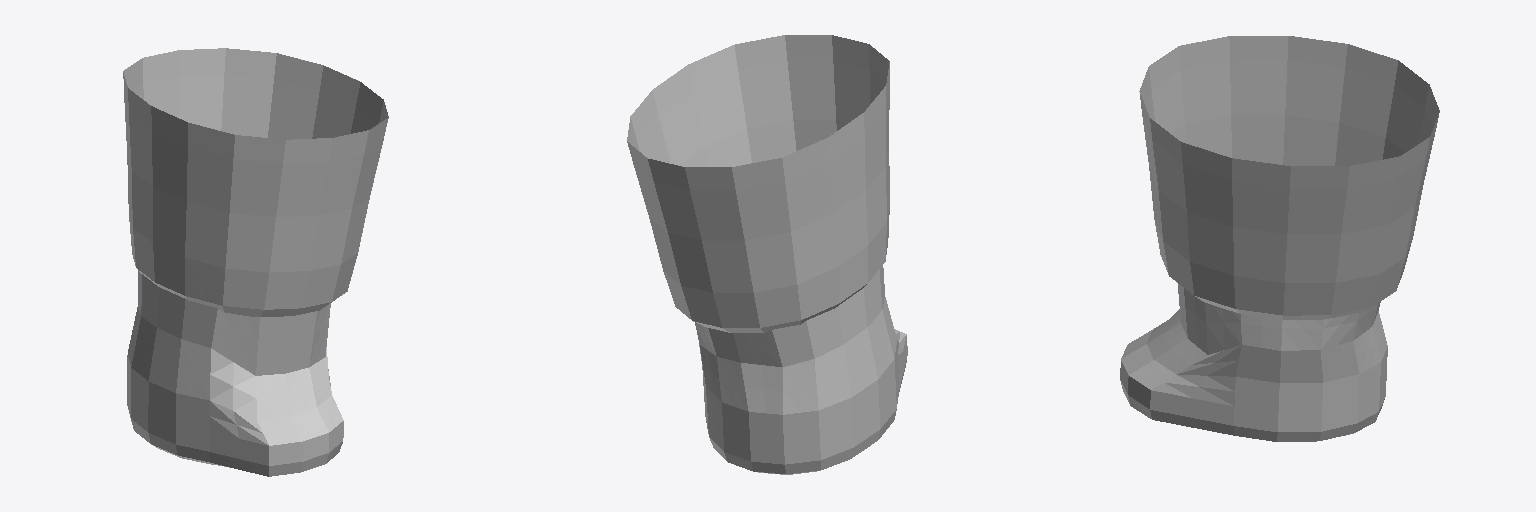
File: rightLeg.obj
3 renders of one model, left to right at view 1: azimuth 30°, elevation 25°; view 2: azimuth 150°, elevation 25°; view 3: azimuth 270°, elevation 25°, orthographic.
Parts seen in each view (by area): view 1: KNIGHT_meshes_Right_LEG_Right_LEG1; view 2: KNIGHT_meshes_Right_LEG_Right_LEG1; view 3: KNIGHT_meshes_Right_LEG_Right_LEG1.
Part boxes in pixels (bbox=[...]): KNIGHT_meshes_Right_LEG_Right_LEG1: bbox=[123, 48, 388, 476]; KNIGHT_meshes_Right_LEG_Right_LEG1: bbox=[627, 35, 907, 474]; KNIGHT_meshes_Right_LEG_Right_LEG1: bbox=[1120, 36, 1439, 441].
Size of the model in its own units: 1.43 by 2.17 by 1.8.